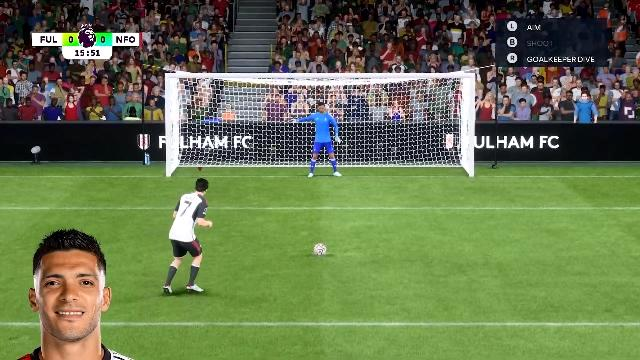bottom-left: (172, 130, 268, 178)
bottom-right: (369, 130, 468, 176)
center-down: (270, 130, 368, 178)
center-up: (270, 78, 368, 128)
football: (313, 244, 327, 254)
goalkeeper: (290, 102, 342, 178)
player: (162, 179, 215, 297)
top-left: (172, 76, 268, 127)
top-right: (371, 78, 469, 128)
